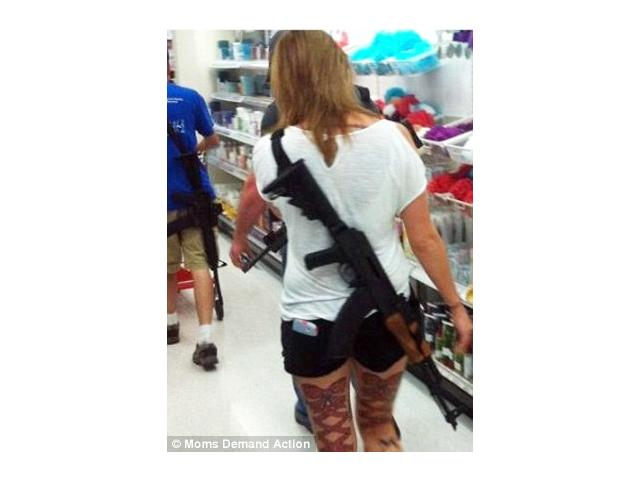rifle: (266, 155, 468, 430), (170, 151, 232, 333)
